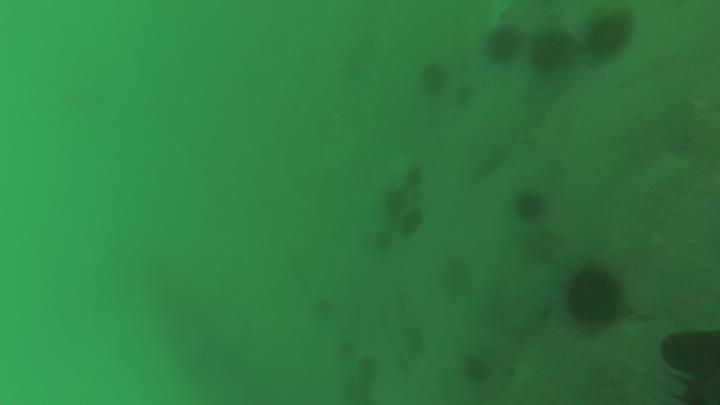echinus: (563, 258, 629, 335), (524, 27, 589, 81), (580, 12, 638, 70), (481, 21, 528, 65), (515, 192, 544, 226), (422, 59, 450, 93), (382, 188, 407, 223), (397, 211, 426, 239), (403, 169, 426, 192)
